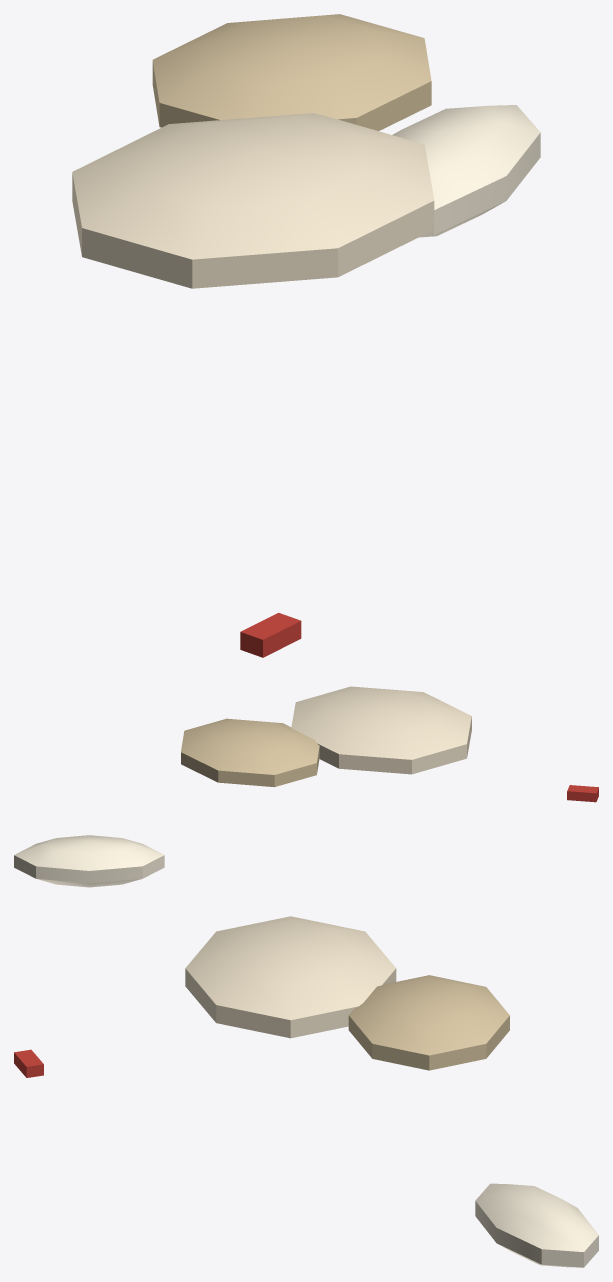
The model's file is PR_Furniture_YorganDaginik.fbx.
3 views of the same model, one above another, from view 1: azimuth 30°, elevation 25°; view 2: azimuth 150°, elevation 25°; view 3: azimuth 270°, elevation 25° (orthographic). The views are drawn at different scales.
Visible parts, largest first — view 1: PR_Furniture_YorganDaginik; view 2: PR_Furniture_YorganDaginik; view 3: PR_Furniture_YorganDaginik.
Boxes of the visible parts, x1,y1,x2,y2 form: PR_Furniture_YorganDaginik: (72, 14, 540, 657); PR_Furniture_YorganDaginik: (14, 686, 598, 887); PR_Furniture_YorganDaginik: (14, 916, 598, 1267).
Bounding box in the file's own units: 1.68 × 0.665 × 1.9.
Materials: 1 (1 with a texture image).
